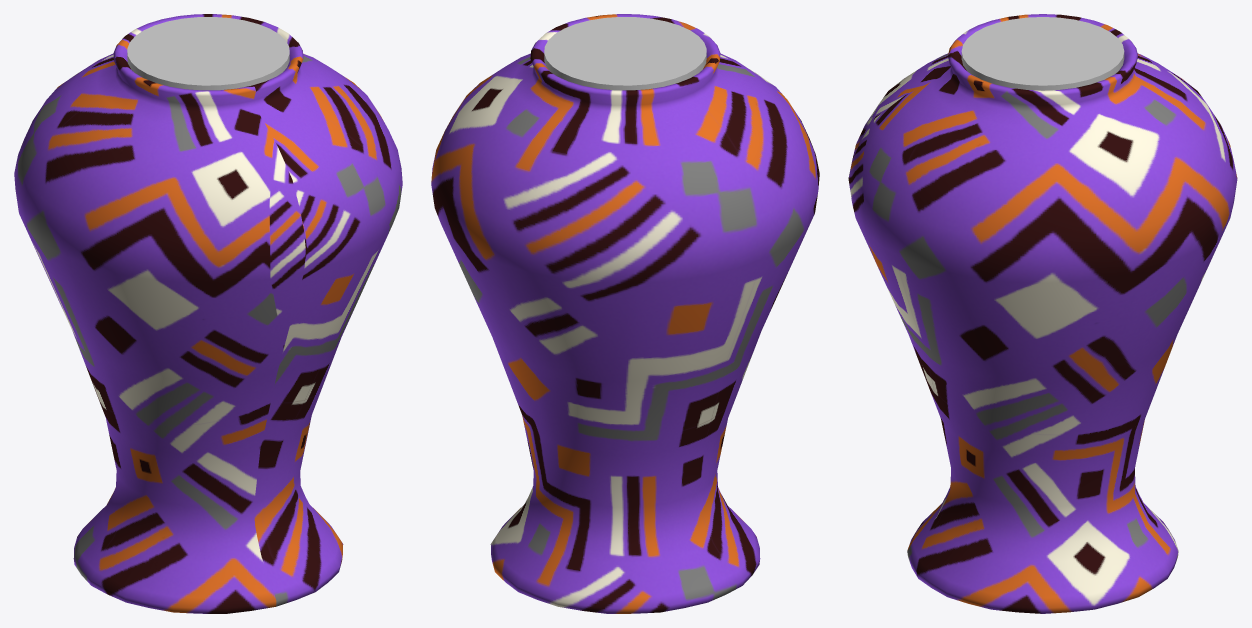
Rendered from Clay_Pot_4.fbx.
The picture shows the model from 3 angles, left to right: view 1: azimuth 30°, elevation 25°; view 2: azimuth 150°, elevation 25°; view 3: azimuth 270°, elevation 25°; orthographic projection.
Parts seen in each view (by area): view 1: Pot_Small-Lid, Lid_Small; view 2: Pot_Small-Lid, Lid_Small; view 3: Pot_Small-Lid, Lid_Small.
Boxes of the visible parts, x1,y1,x2,y2 form: Pot_Small-Lid: (14,14,402,613); Lid_Small: (127,17,289,90); Pot_Small-Lid: (431,14,819,613); Lid_Small: (544,17,706,90); Pot_Small-Lid: (848,14,1237,613); Lid_Small: (961,17,1124,90).
Bounding box in the file's own units: 24 × 34.57 × 24.
